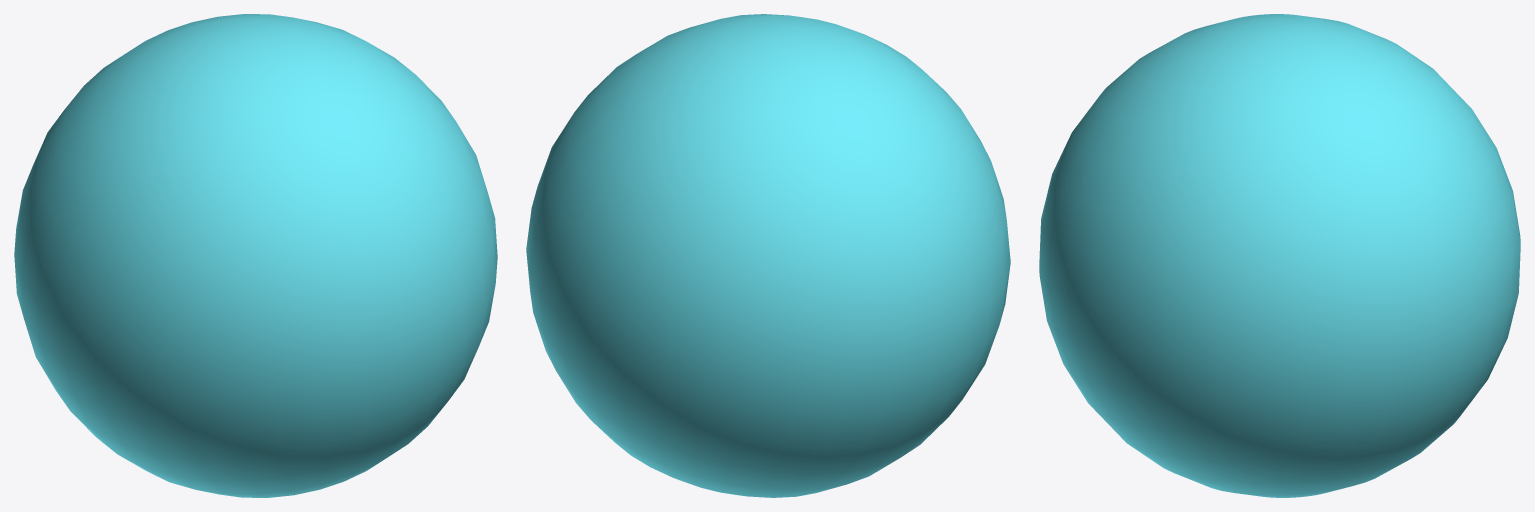
Rendered from vai.glb.
3 renders of one model, left to right at view 1: azimuth 30°, elevation 25°; view 2: azimuth 150°, elevation 25°; view 3: azimuth 270°, elevation 25°, orthographic.
Visible parts, largest first — view 1: Sphere.001; view 2: Sphere.001; view 3: Sphere.001.
Part boxes in pixels (box(x1,y1,x2,y2)): Sphere.001: box(14, 14, 497, 497); Sphere.001: box(526, 14, 1010, 497); Sphere.001: box(1039, 14, 1520, 497).
Size of the model in its own units: 0.0597 by 0.0599 by 0.0595.
